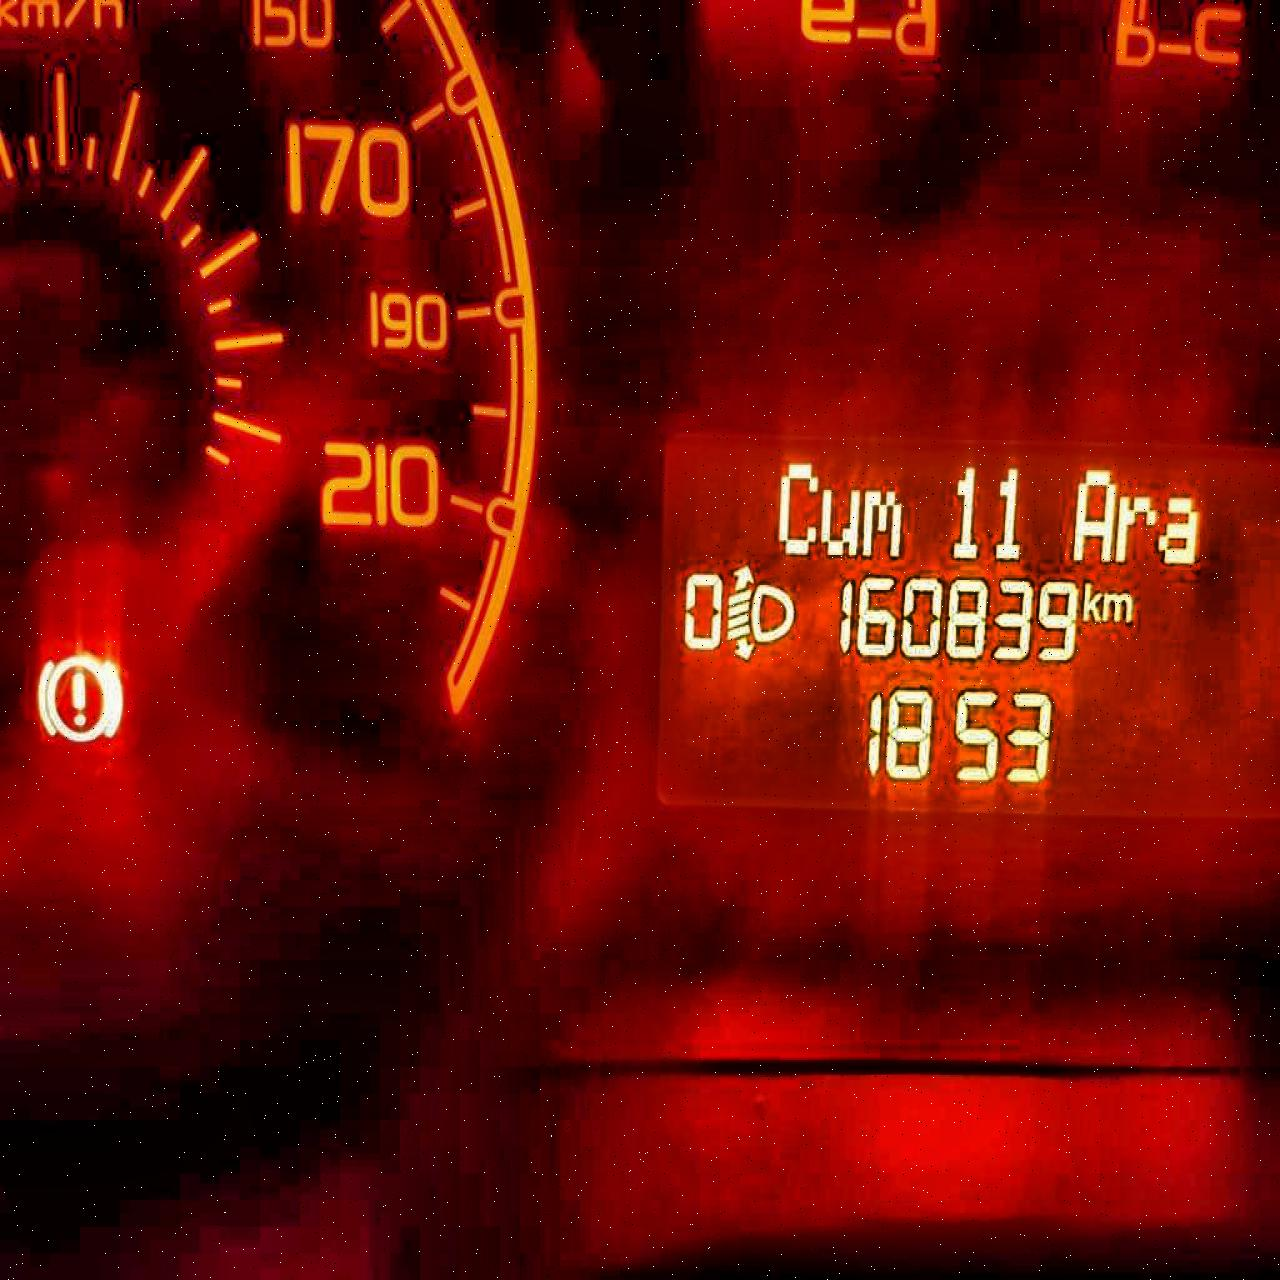0: (899, 573, 942, 660), (681, 566, 723, 652)
1: (947, 459, 982, 564), (989, 458, 1022, 564), (858, 687, 884, 781), (832, 573, 852, 659)
3: (1003, 687, 1053, 787), (990, 573, 1032, 662)
5: (949, 685, 1000, 785)
6: (853, 573, 898, 660)
8: (883, 683, 935, 783), (946, 576, 986, 662)
9: (1035, 574, 1077, 663)
X: (772, 455, 818, 558), (1069, 462, 1115, 564), (859, 483, 905, 560), (1157, 490, 1201, 568), (821, 482, 859, 560), (1116, 492, 1156, 564), (1104, 585, 1131, 625), (1081, 573, 1101, 625)
odometer: (647, 422, 1279, 825)
